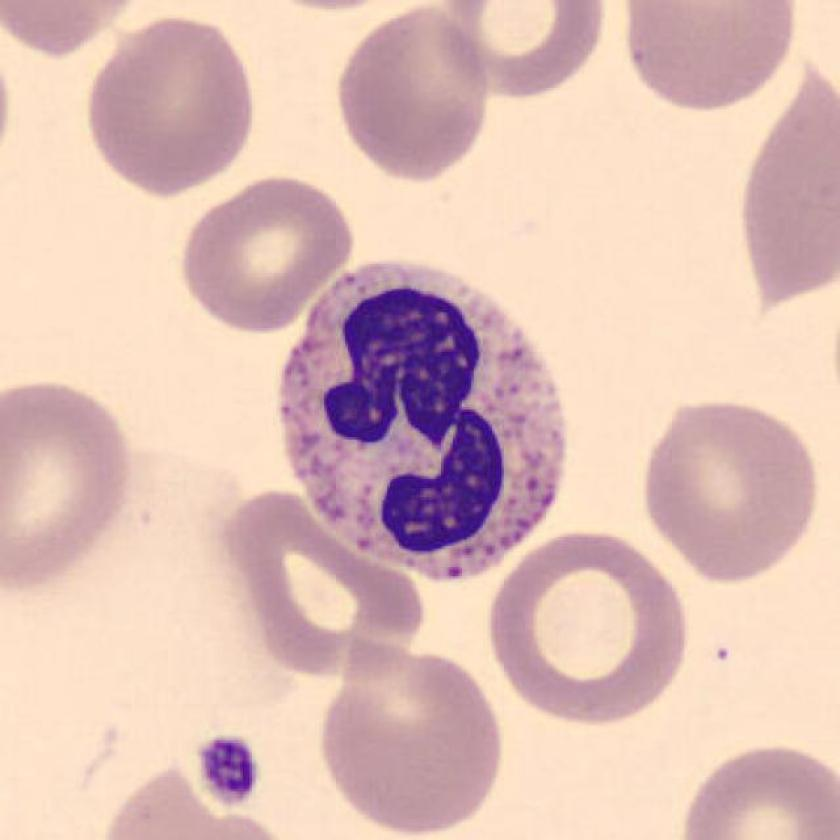neutrophil: (283, 265, 571, 585)
